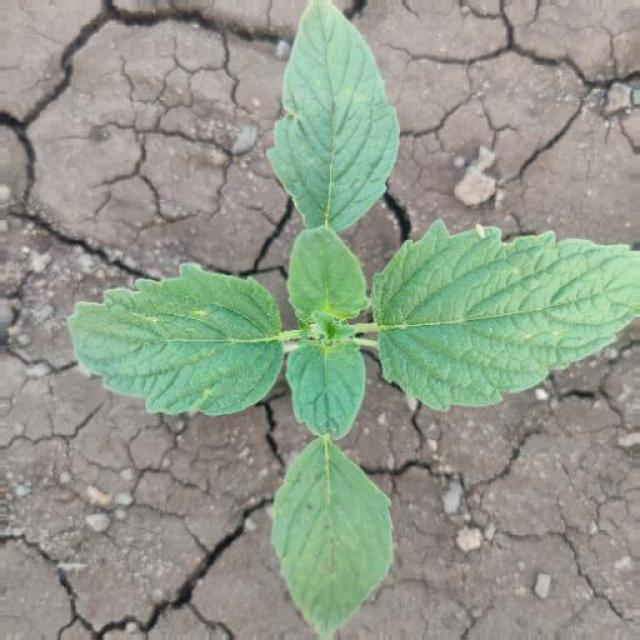crop: (60, 1, 640, 628)
